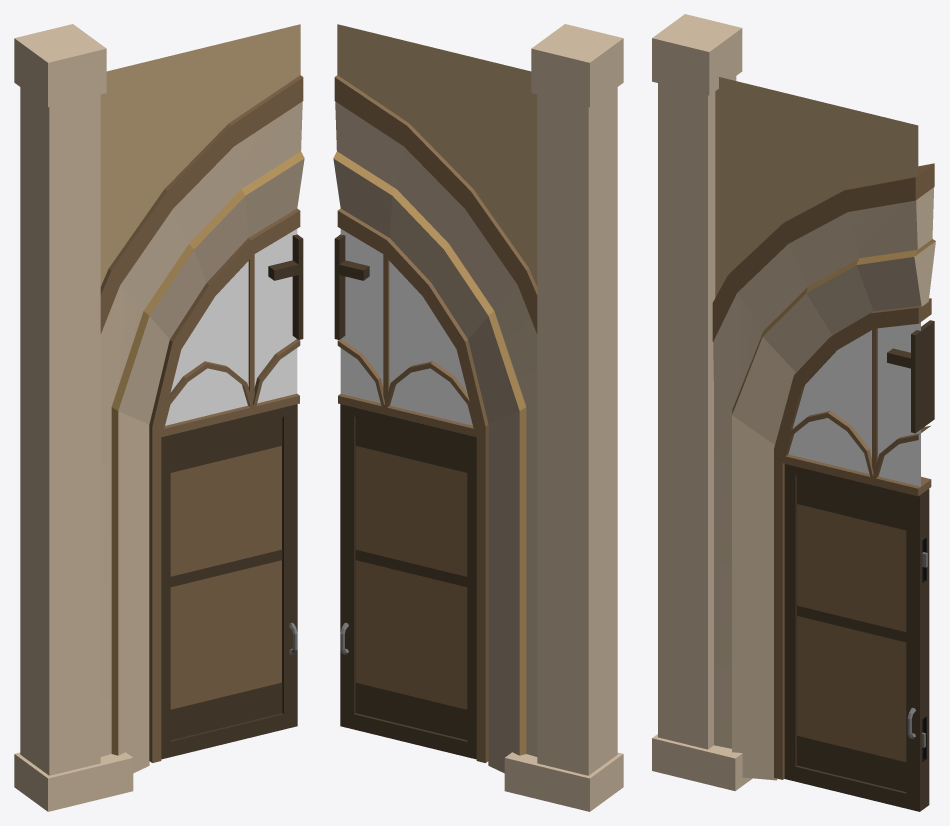
The model's file is ChurchMainDoor.glb.
3 views of the same model, side by side, from view 1: azimuth 30°, elevation 25°; view 2: azimuth 150°, elevation 25°; view 3: azimuth 330°, elevation 25° (orthographic). The views are drawn at different scales.
Visible parts, largest first — view 1: Frame, Door, TopGlass; view 2: Frame, Door, TopGlass; view 3: Frame, Door, TopGlass.
Boxes of the visible parts, <box> form: Frame: <box>14,24,304,811</box>; Door: <box>161,404,297,759</box>; TopGlass: <box>165,229,297,425</box>; Frame: <box>333,24,623,811</box>; Door: <box>340,404,476,759</box>; TopGlass: <box>340,229,472,425</box>; Frame: <box>652,14,935,791</box>; Door: <box>784,464,929,811</box>; TopGlass: <box>788,322,920,486</box>.
Bounding box in the file's own units: 2.75 × 7.48 × 0.6107.
Materials: 2 (1 with a texture image).
